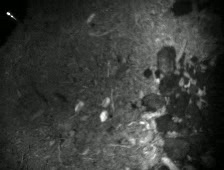corn: (72, 98, 86, 115), (84, 11, 98, 26), (98, 108, 111, 123), (100, 96, 112, 108)
